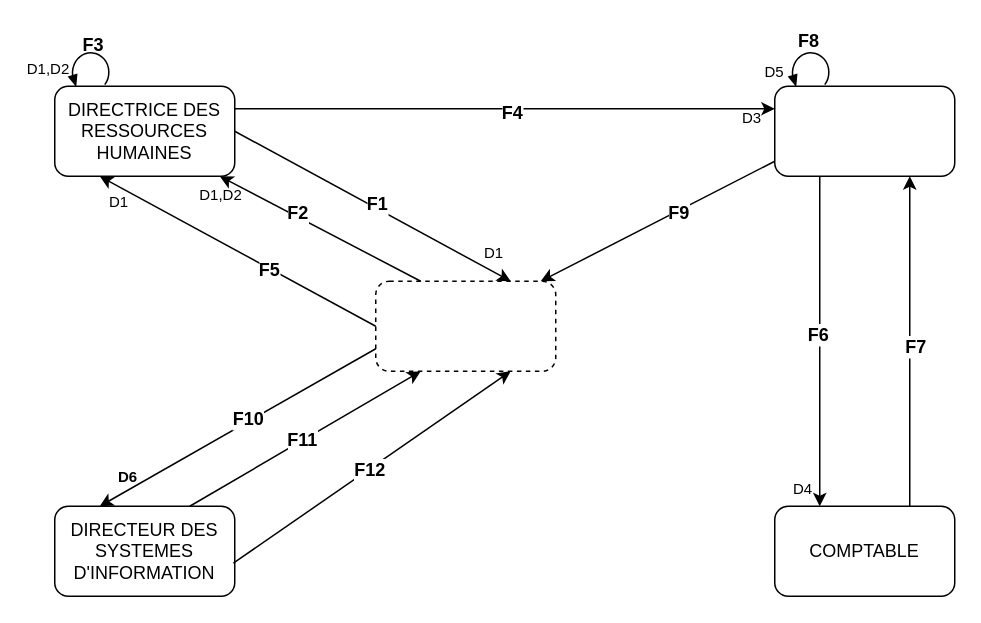
This 981x623 diagram has some shape labels left out. The shapes that lost their labels are listed below. From the top down, each one's centre as x and y in pixels, then its label:
At (864,130): "RESPONSABLE INFRASTRUCTURE".
At (465,325): "EMPLOYE".
